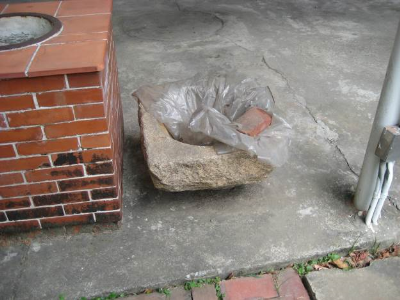plastic_bag: (131, 65, 295, 169)
